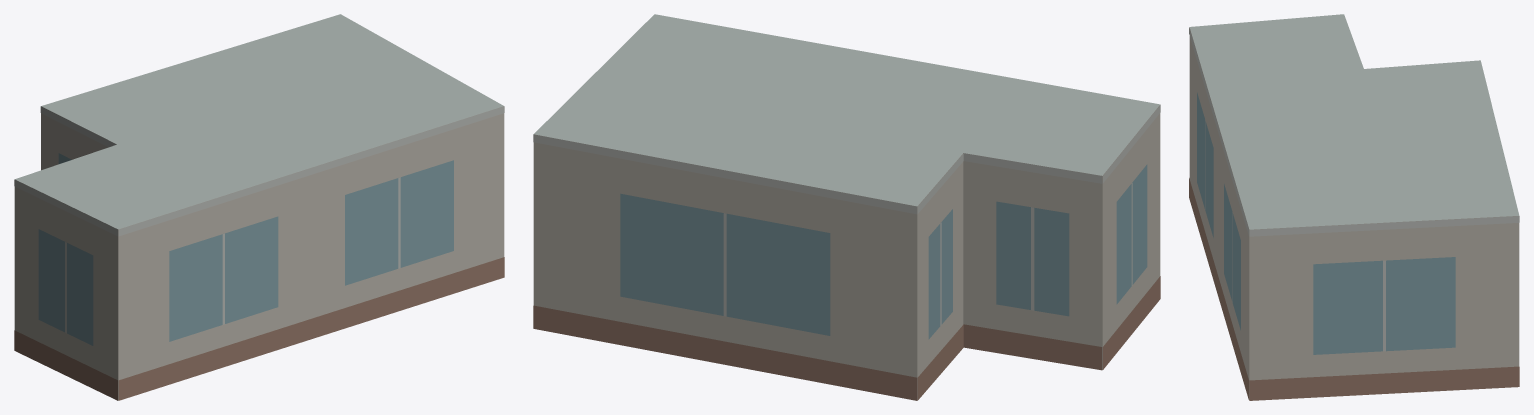
File: survey-upis-32805905.glb
3 renders of one model, left to right at view 1: azimuth 30°, elevation 25°; view 2: azimuth 150°, elevation 25°; view 3: azimuth 270°, elevation 25°, orthographic. The views are drawn at different scales.
Parts seen in each view (by area): view 1: survey-upis-32805905.tmp; view 2: survey-upis-32805905.tmp; view 3: survey-upis-32805905.tmp.
Part boxes in pixels (box(x1,y1,x2,y2)): survey-upis-32805905.tmp: box(14, 14, 504, 400); survey-upis-32805905.tmp: box(533, 14, 1160, 400); survey-upis-32805905.tmp: box(1189, 14, 1519, 400).
Size of the model in its own units: 8.25 by 3.05 by 5.34.
